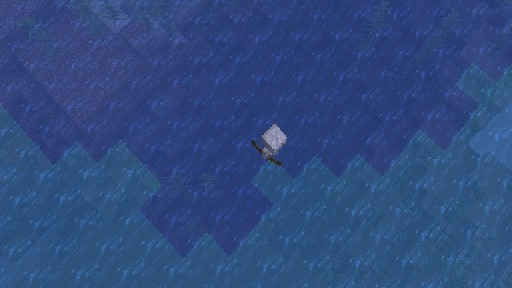skeleton: (250, 122, 287, 166)
